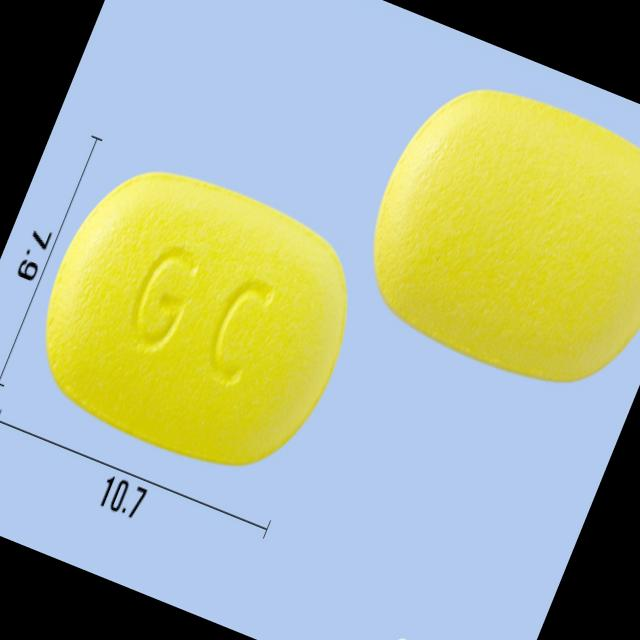Clarimicin: (4, 128, 387, 502)
